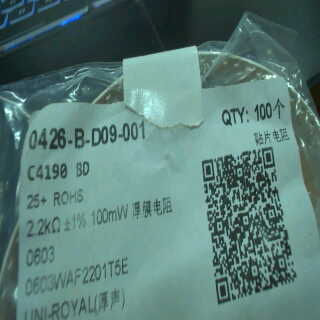2.2kR: (22, 217, 64, 235)
